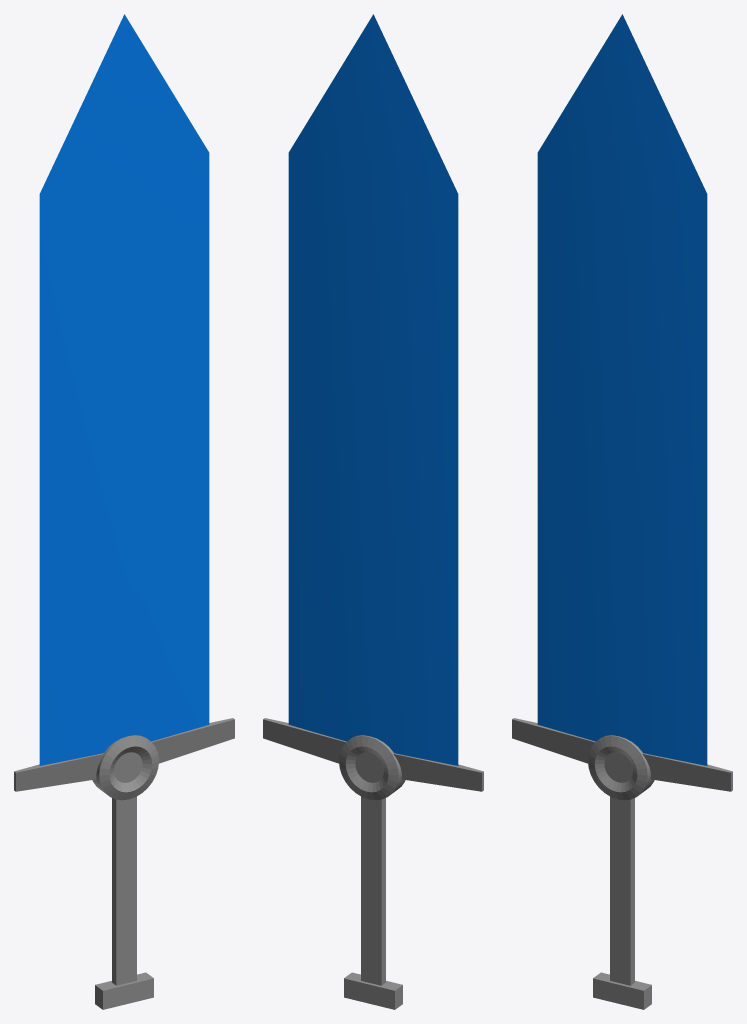
The model's file is Sword_1.fbx.
The picture shows the model from 3 angles, left to right: view 1: azimuth 30°, elevation 25°; view 2: azimuth 150°, elevation 25°; view 3: azimuth 330°, elevation 25°; orthographic projection.
Parts seen in each view (by area): view 1: SwordLight_1, Sword_1, SwordHolder_L, SwordHolder_R; view 2: SwordLight_1, Sword_1, SwordHolder_L, SwordHolder_R; view 3: SwordLight_1, Sword_1, SwordHolder_R, SwordHolder_L.
Boxes of the visible parts, x1=… form: SwordLight_1: x1=39, y1=14, x2=209, y2=765; Sword_1: x1=92, y1=735, x2=158, y2=1009; SwordHolder_L: x1=14, y1=753, x2=104, y2=791; SwordHolder_R: x1=151, y1=718, x2=234, y2=763; SwordLight_1: x1=288, y1=14, x2=458, y2=765; Sword_1: x1=339, y1=735, x2=405, y2=1009; SwordHolder_L: x1=393, y1=753, x2=483, y2=791; SwordHolder_R: x1=263, y1=718, x2=346, y2=763; SwordLight_1: x1=537, y1=14, x2=707, y2=765; Sword_1: x1=588, y1=735, x2=654, y2=1009; SwordHolder_R: x1=642, y1=753, x2=732, y2=791; SwordHolder_L: x1=512, y1=718, x2=595, y2=763.
Bounding box in the file's own units: 83.06 × 358 × 8.38.
